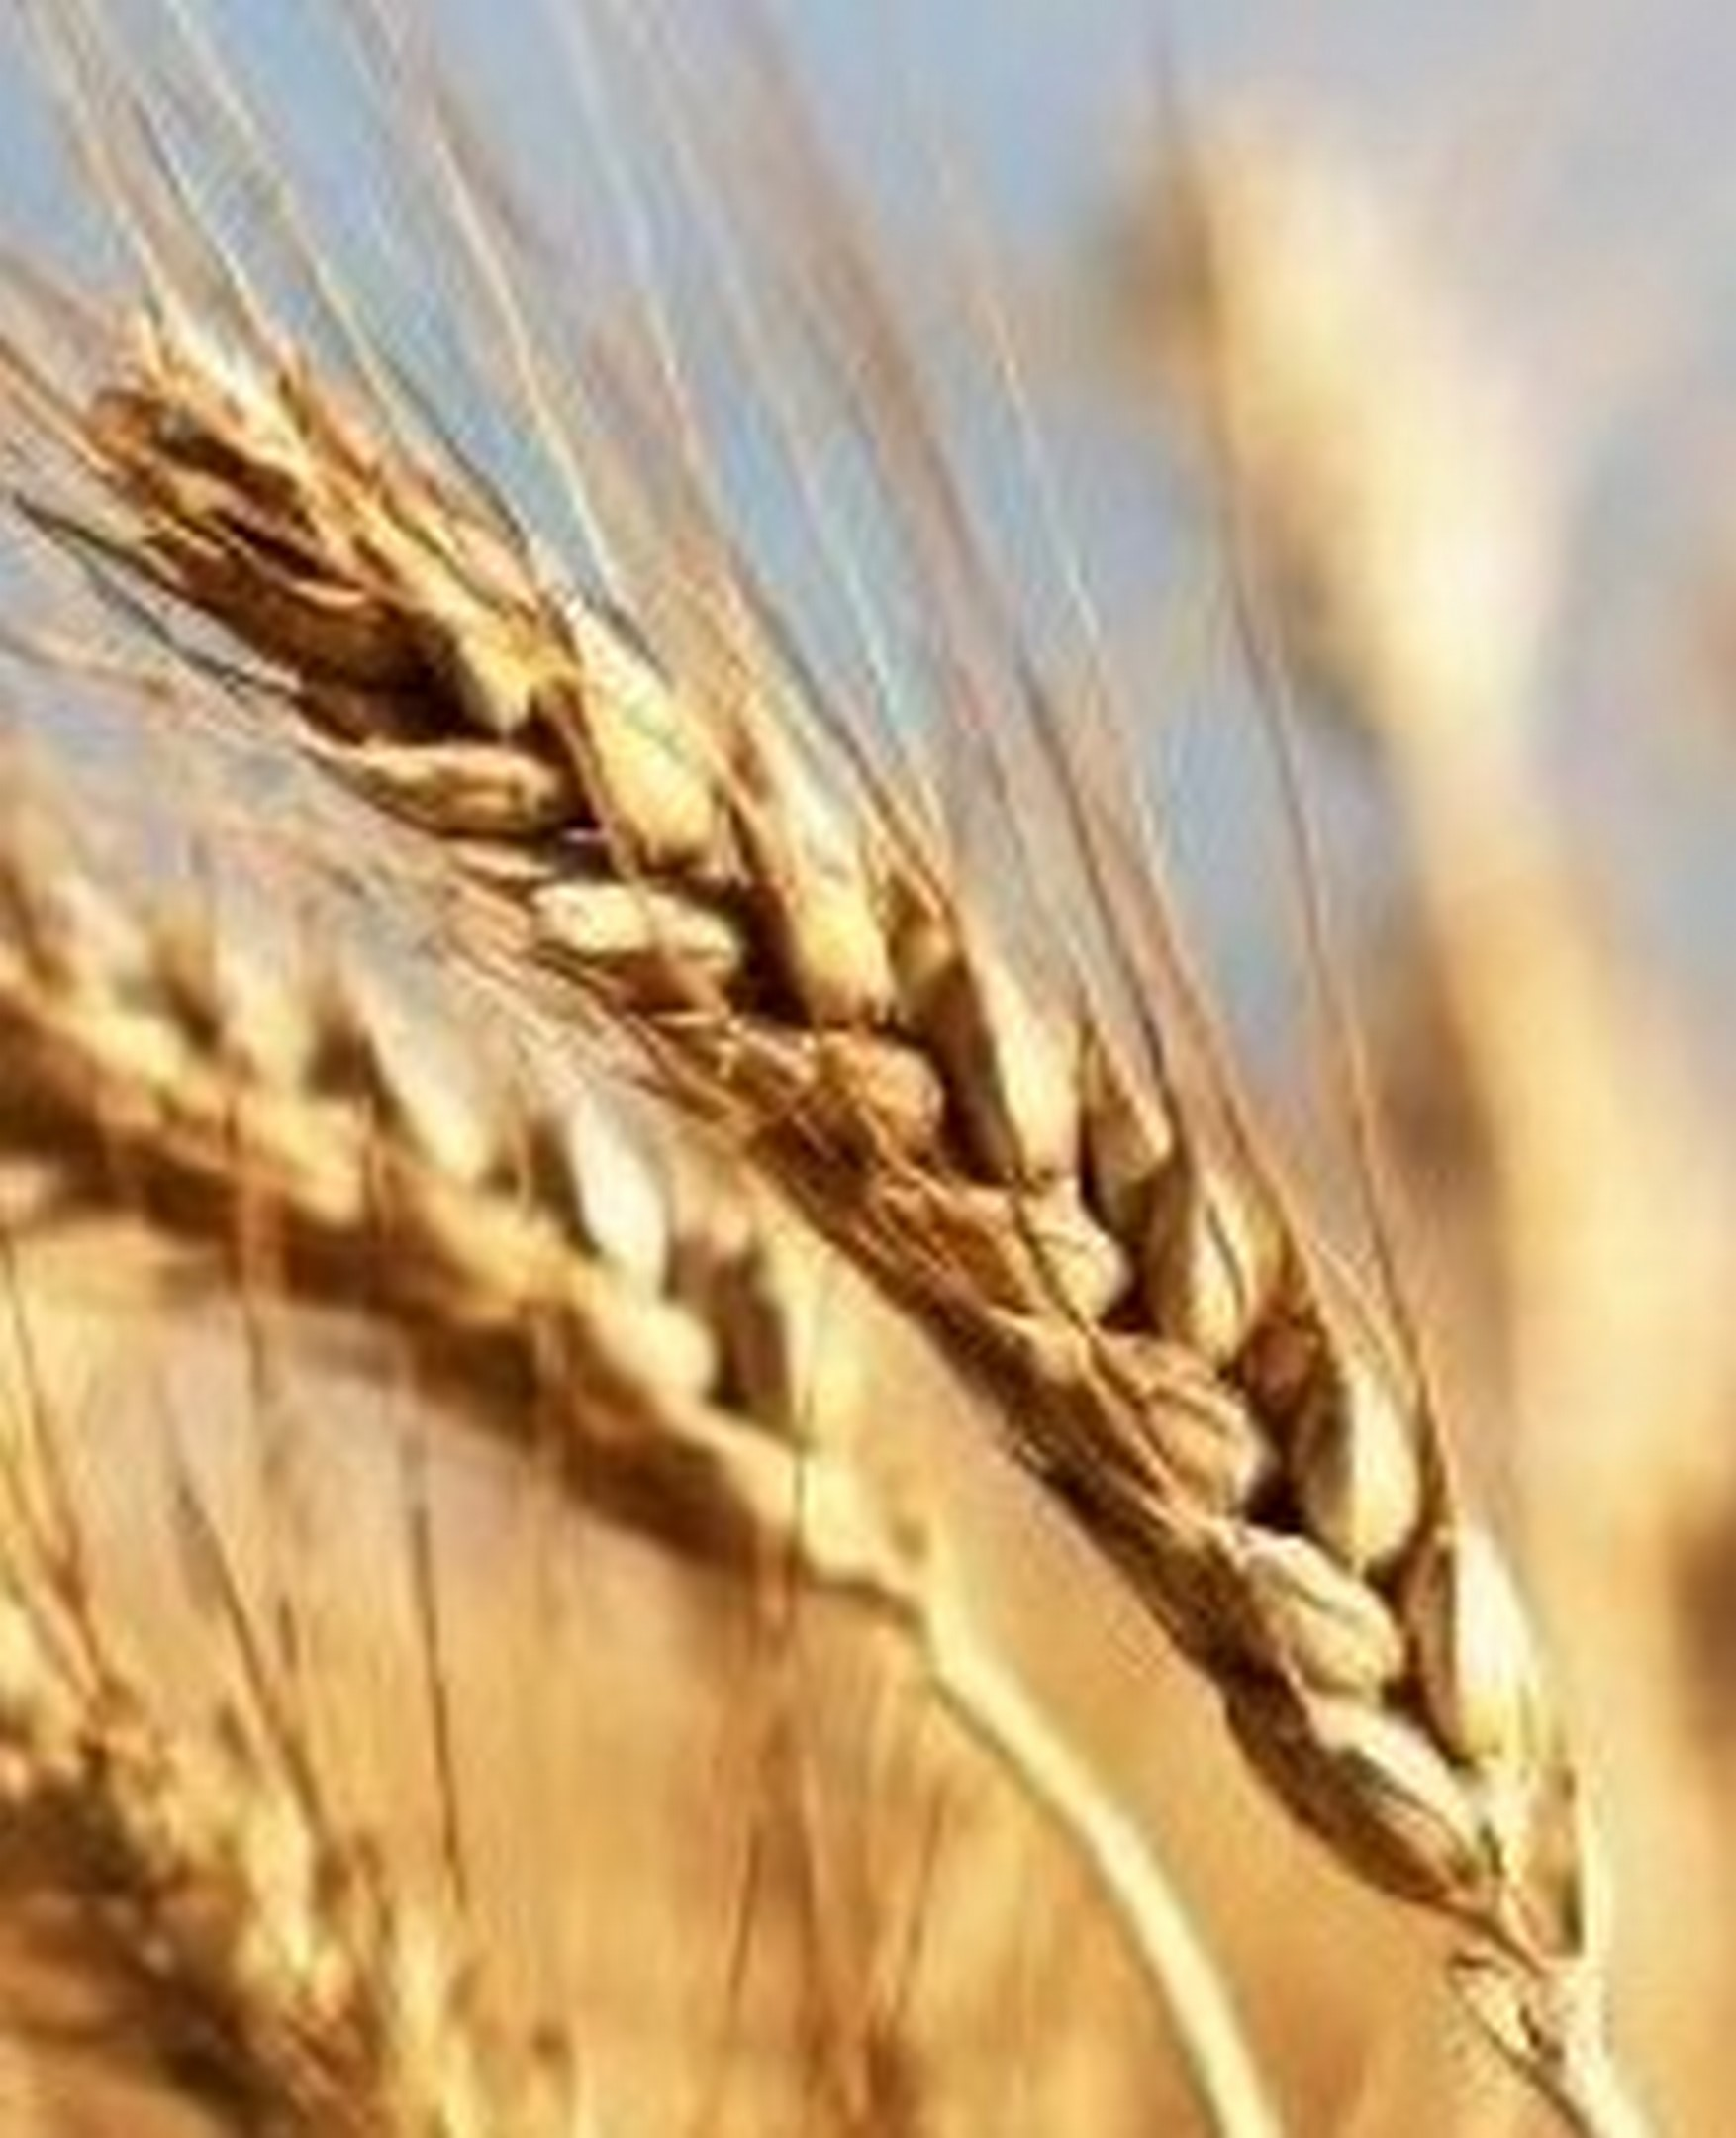Healthy Wheat: (105, 285, 1608, 1971)
